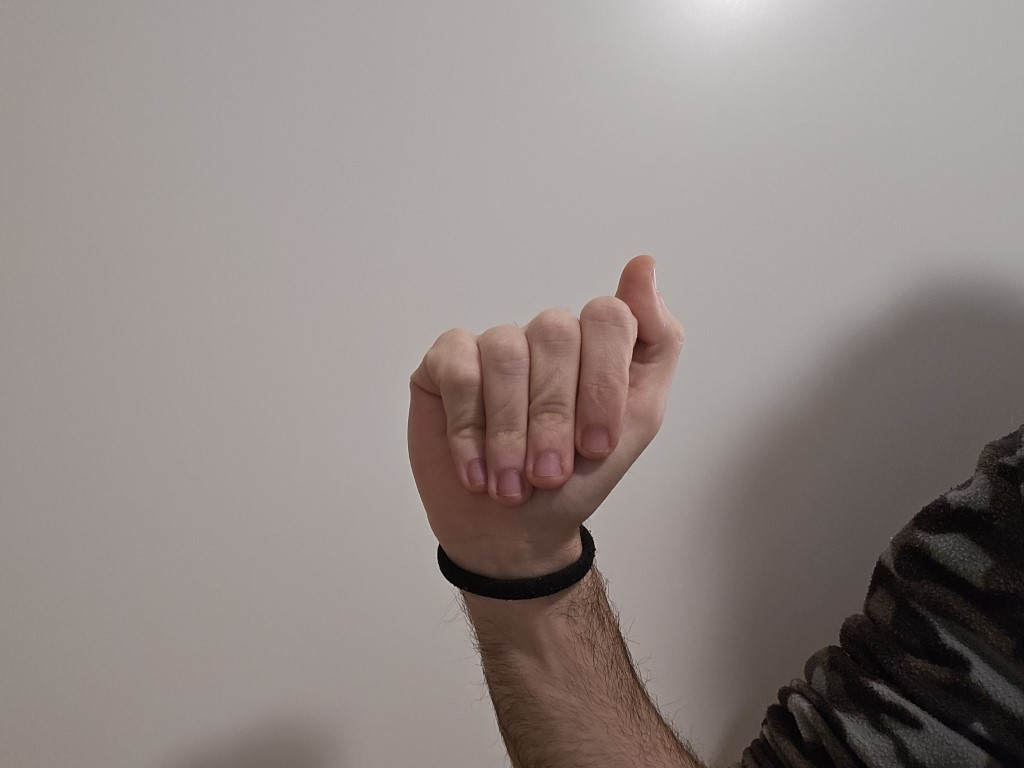a: (394, 241, 695, 577)
